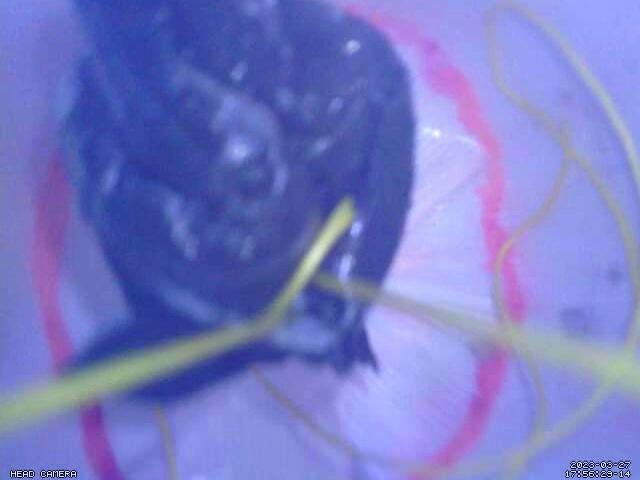head: (31, 2, 527, 480)
